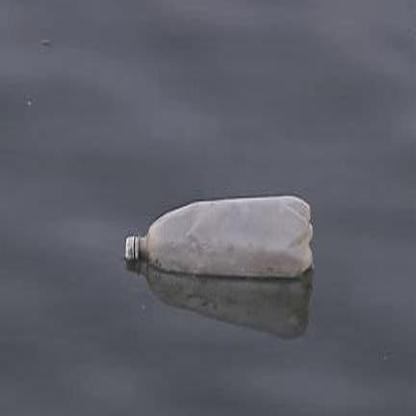plastic bottle: (124, 195, 314, 276)
